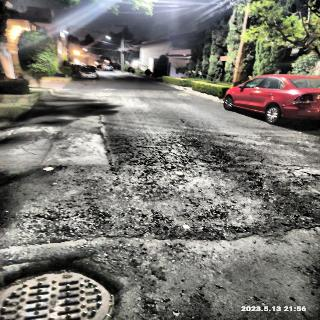pothole: (117, 134, 249, 171), (278, 162, 320, 180)
